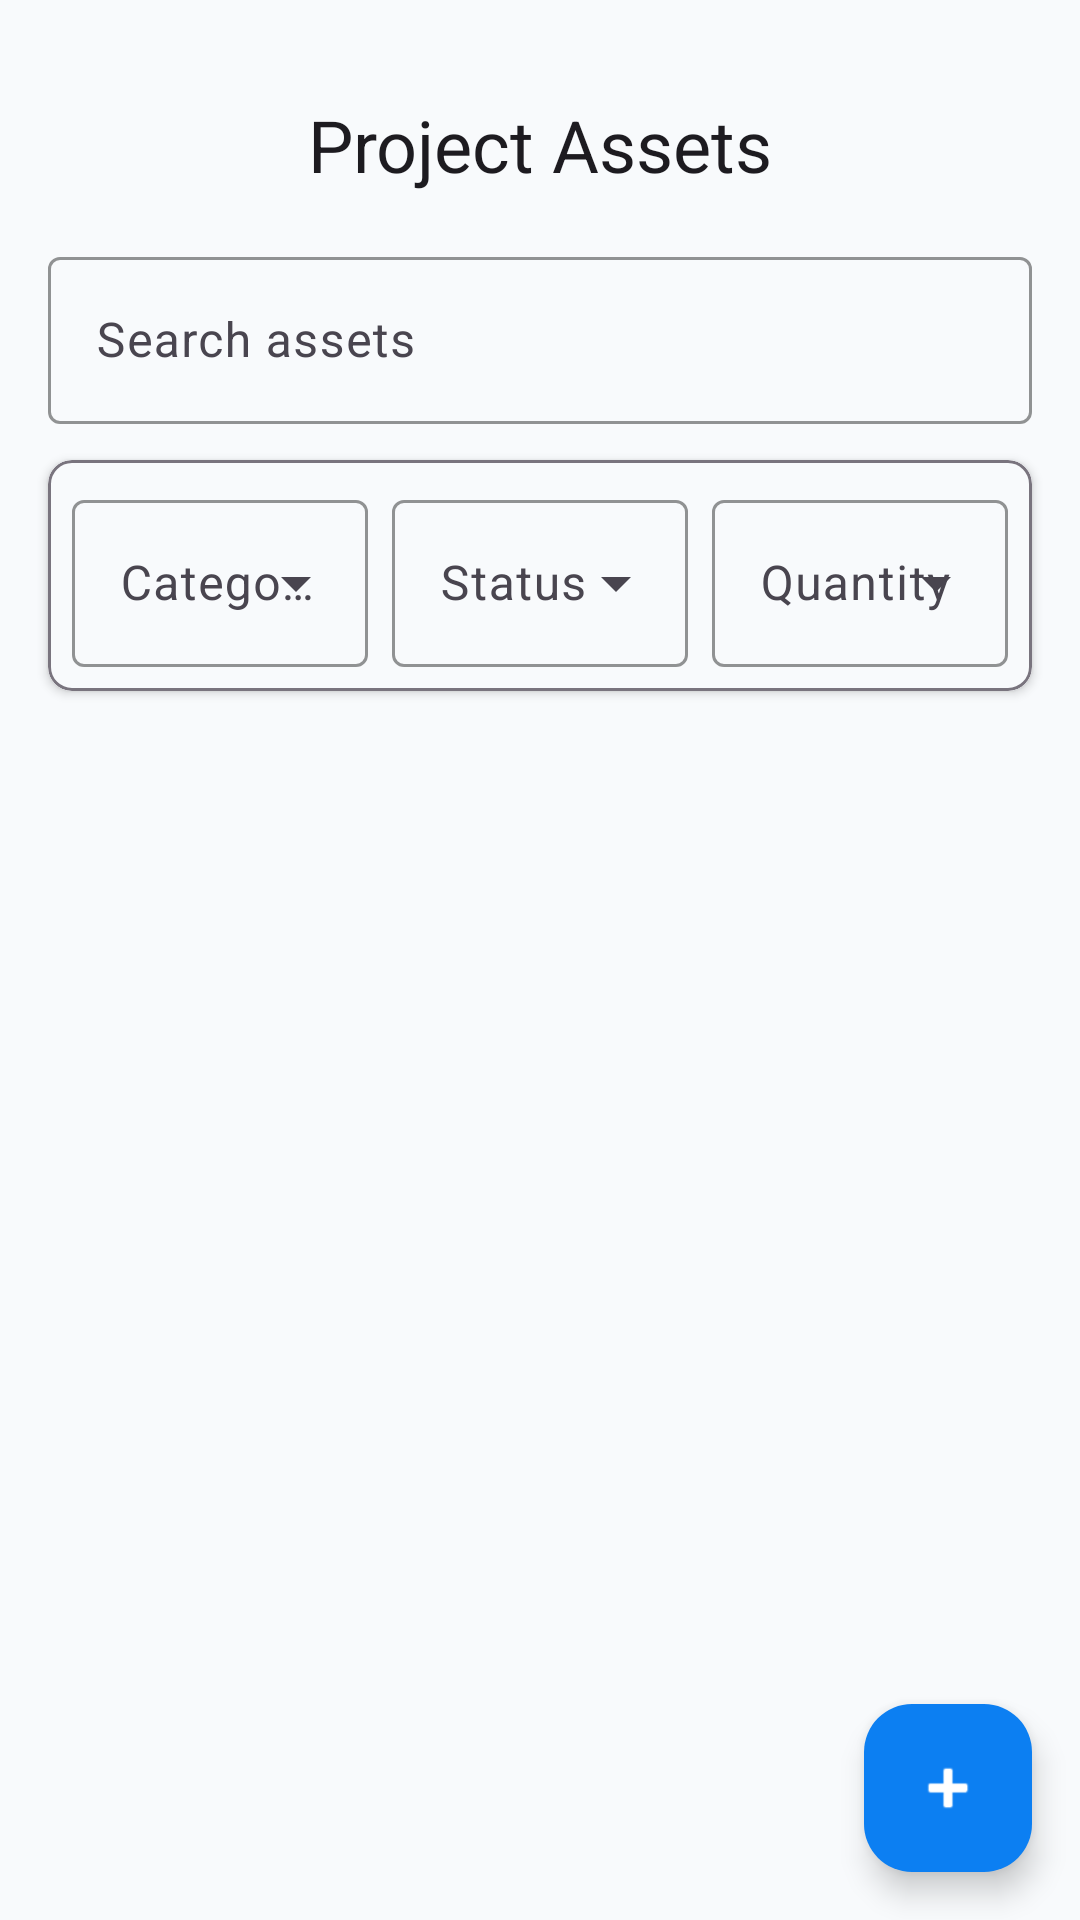

Screen size 1080x1920. Icon name, then its center in pixels as point (x, y):
Add Asset: point (948, 1788)
